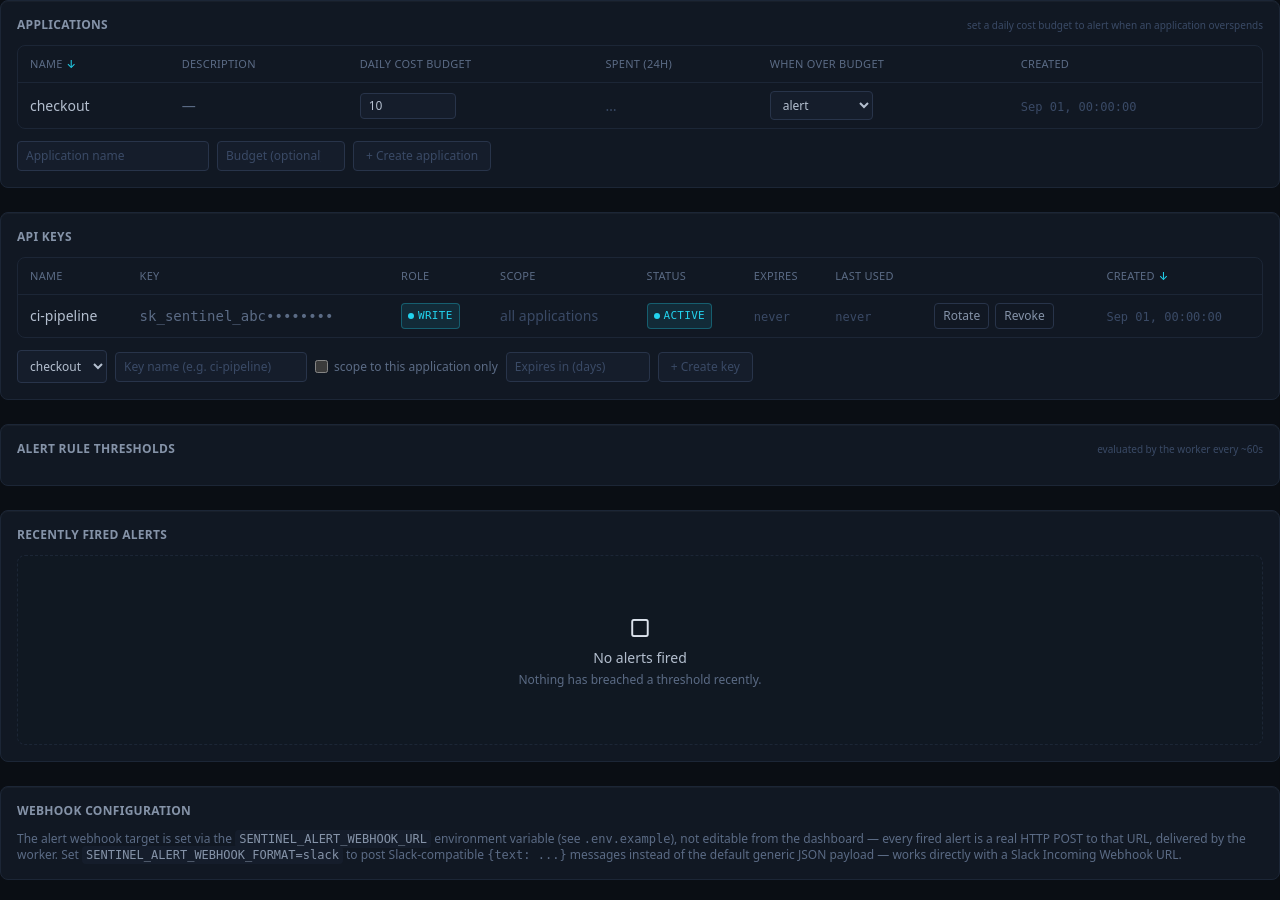
it: Settings — API key lifecycle › rotates with a grace period and reveals the replacement key once
The image size is (1280, 900).
Click the button "Rotate".
click(962, 316)  # box x1=934 y1=303 x2=989 y2=329
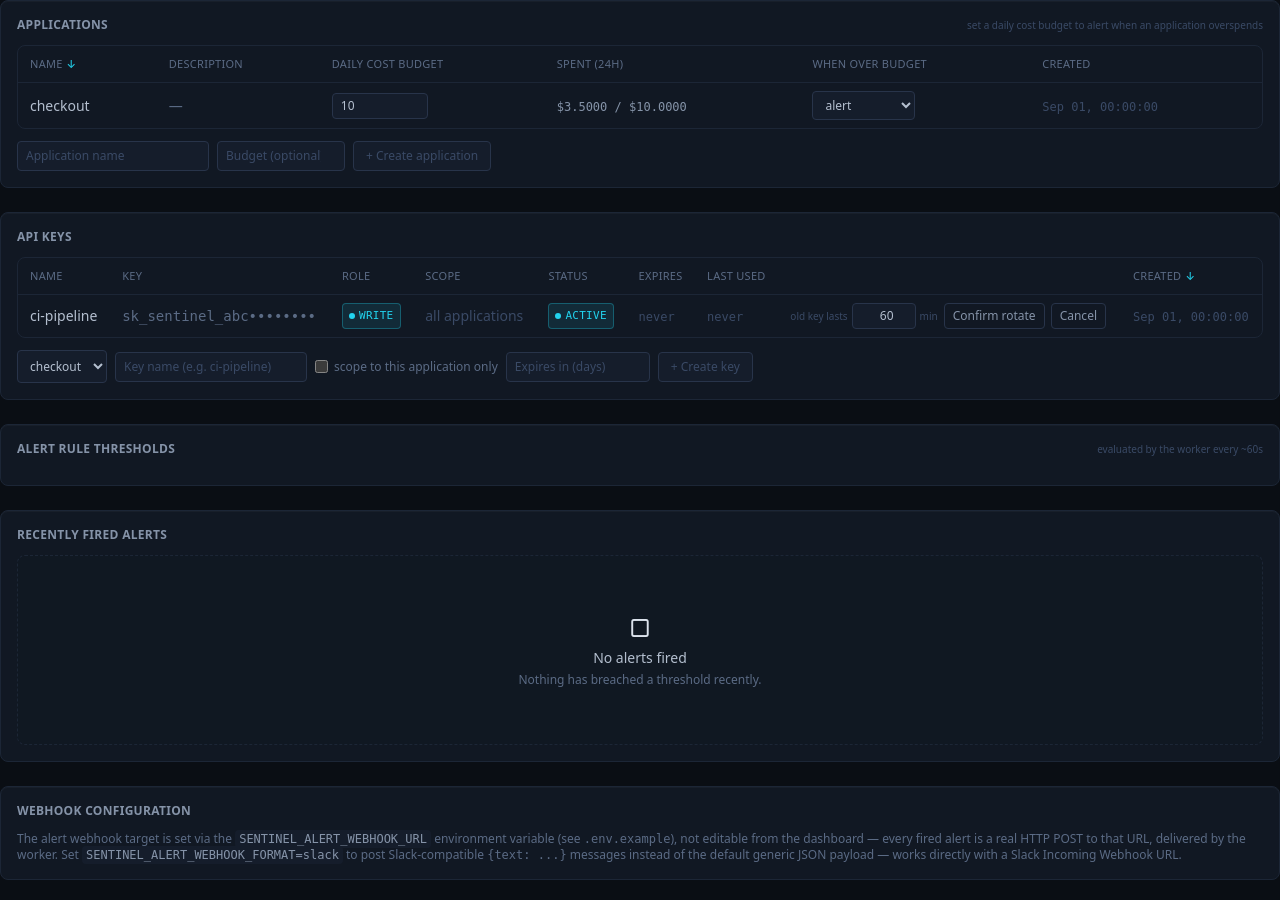
Expected: the number field named "Grace period in minutes" holds "60"
Replace the text in the number field named "Grace period in minutes" with "15" at (884, 316), box x1=852 y1=303 x2=916 y2=329
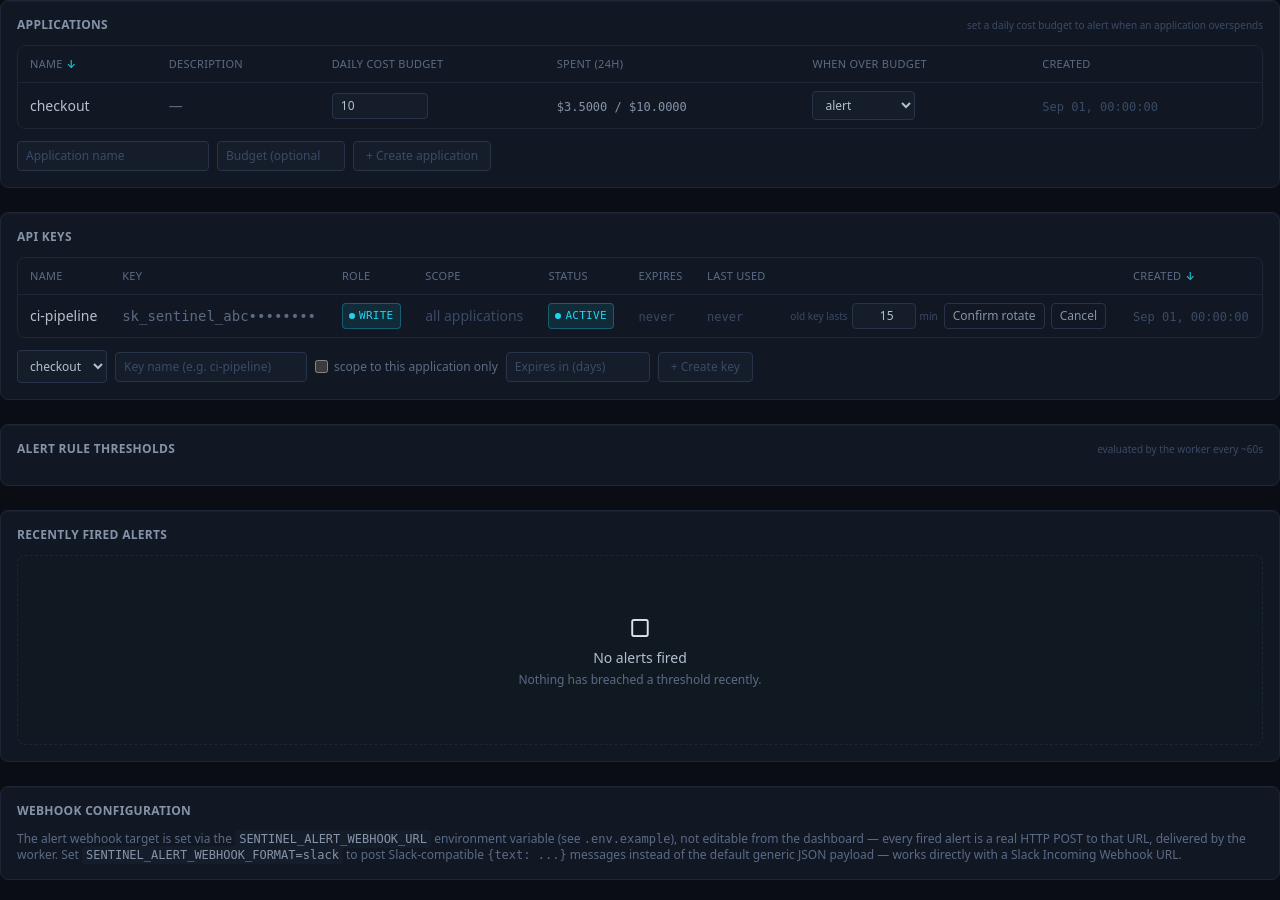
Click the button "Confirm rotate".
click(994, 316)  # box x1=944 y1=303 x2=1045 y2=329
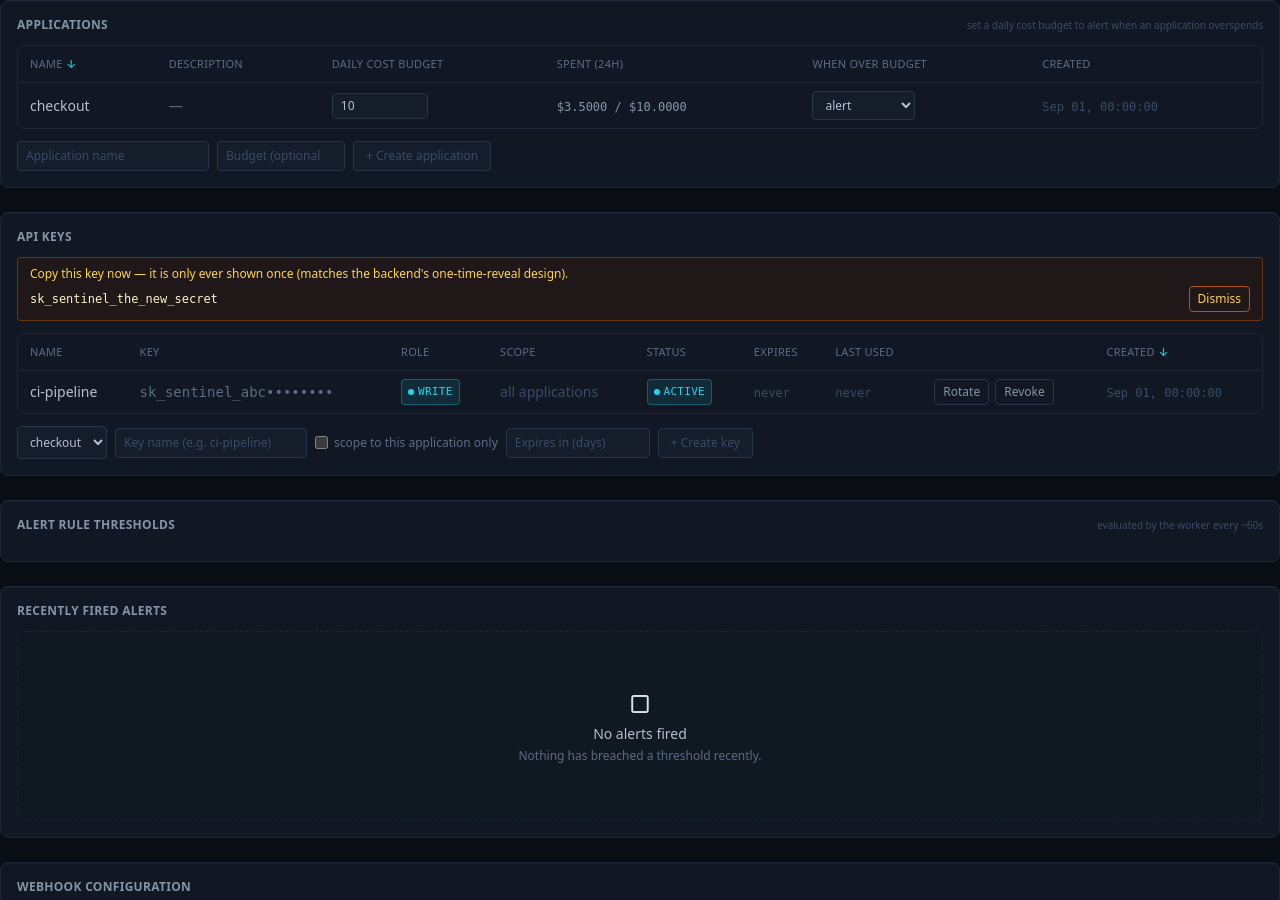
Expected: the text "sk_sentinel_the_new_secret" is shown, x1=30 y1=291 x2=218 y2=307
